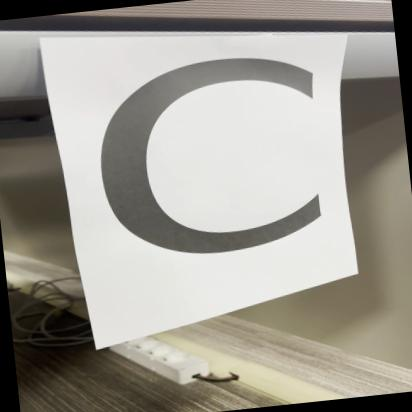seat: (64, 19, 364, 306)
